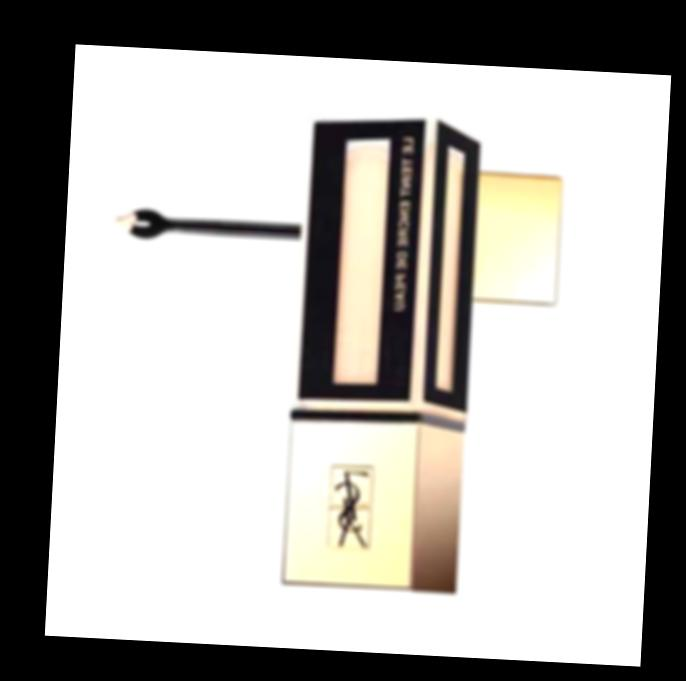cosmetic: (283, 109, 486, 592)
